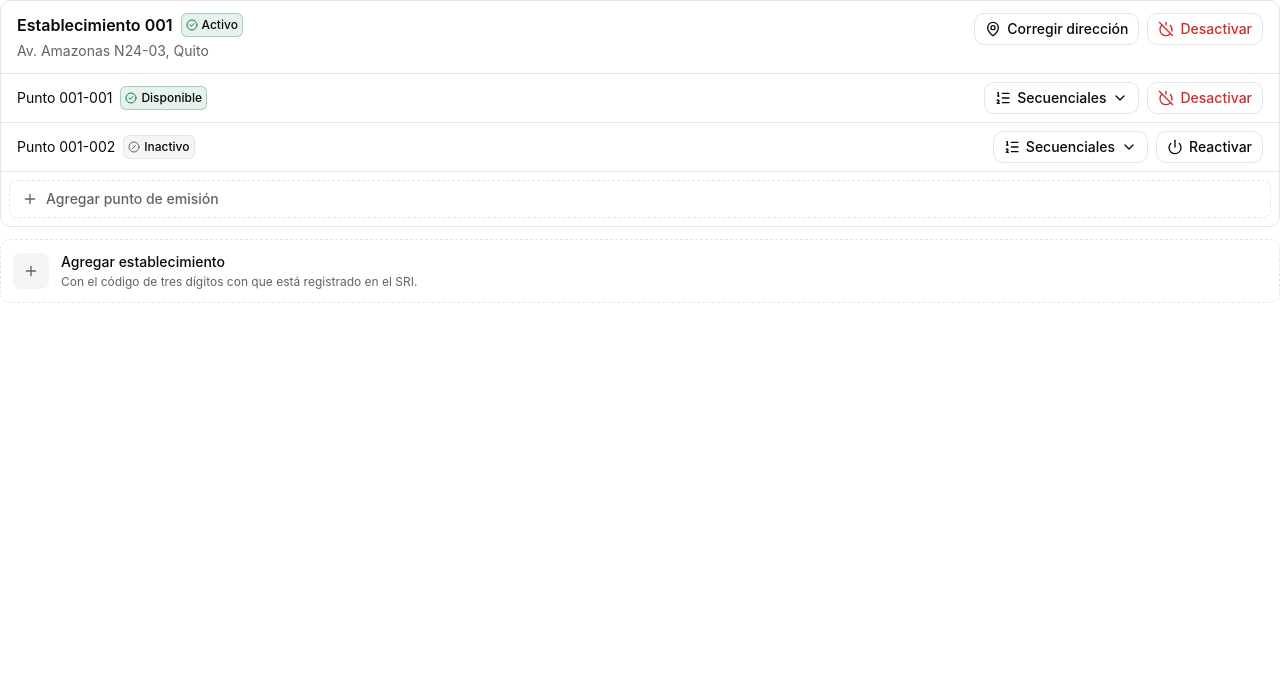
Test: secuenciales de cada punto (design D14) › lista por punto los seis tipos con el siguiente completo y el último reservado
Click the button with aria-label "Secuenciales del punto 001-001" at (1062, 98), box [984,82,1140,114]
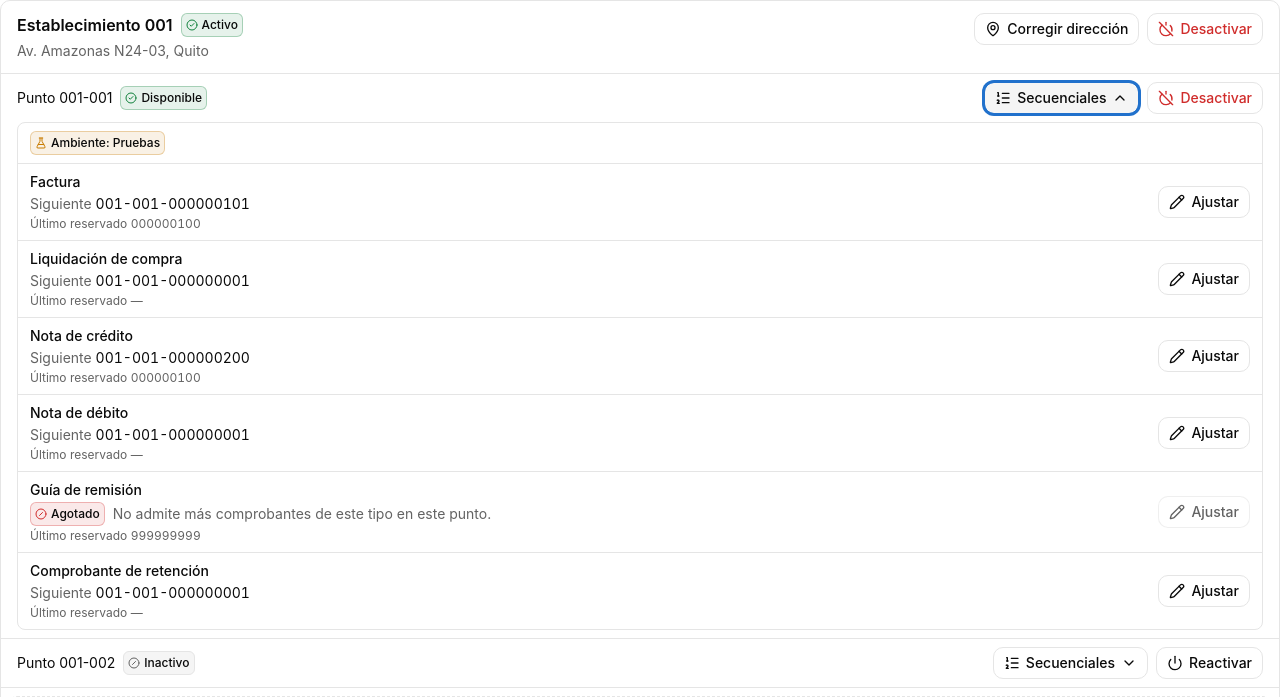
Check: the list item that starts with "Factura" shows "Siguiente 001-001-000000101", box [18,164,1262,241]
Check: the list item that starts with "Factura" shows "Último reservado 000000100", box [18,164,1262,241]
Check: the list item that starts with "Liquidación de compra" shows "Siguiente 001-001-000000001", box [18,241,1262,318]
